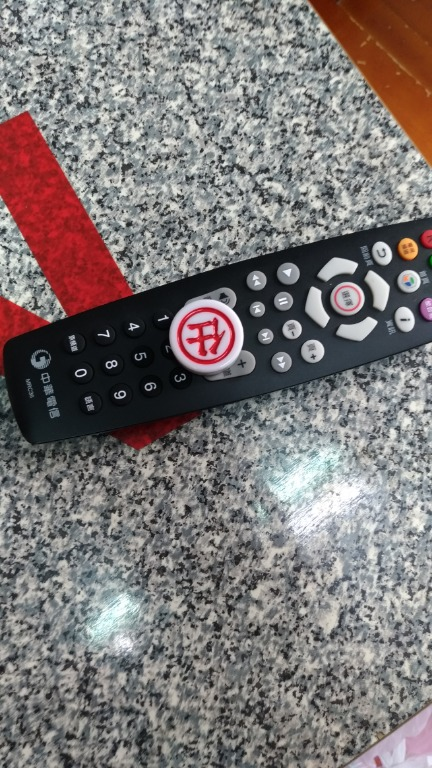r-advisor: (155, 295, 257, 382)
